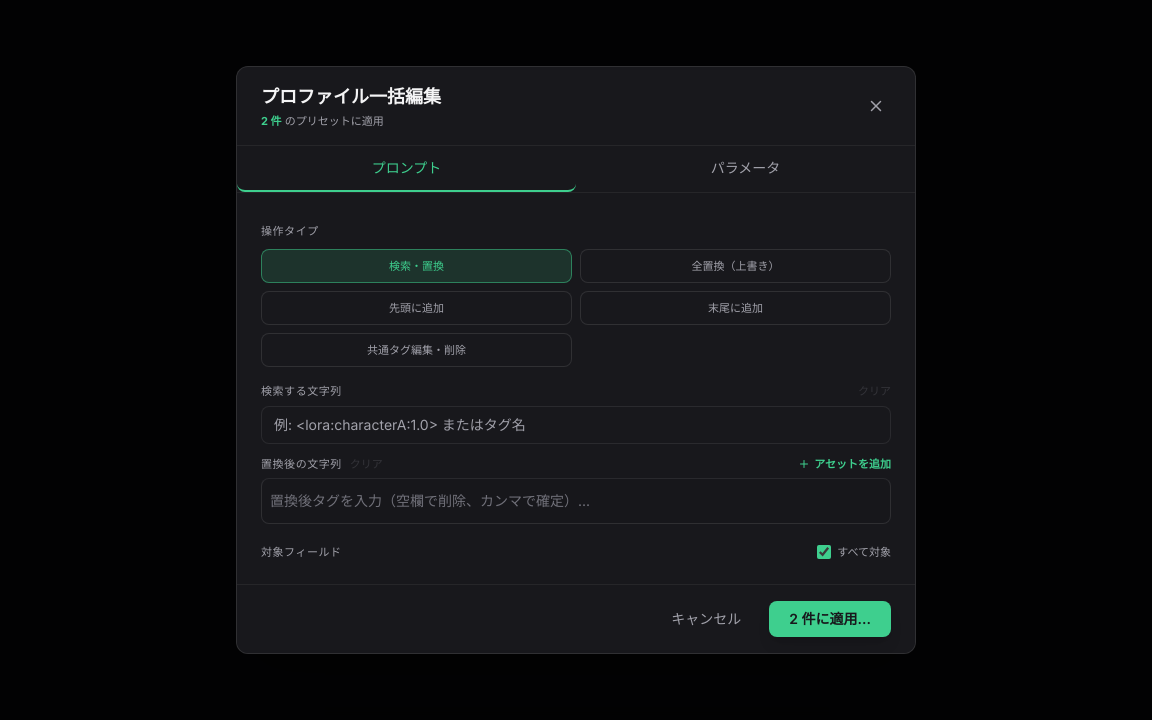
it: ProfileBulkEditModal Component › REQ-297 Enhanced Bulk Edit Features (AC-1 to AC-7, Red Team) › Red Team 1: safe handling when all subset presets are cleared
This screenshot has width=1152, height=720.
Click the button "共通タグ編集・削除".
click(416, 350)  # box x1=261 y1=333 x2=572 y2=367
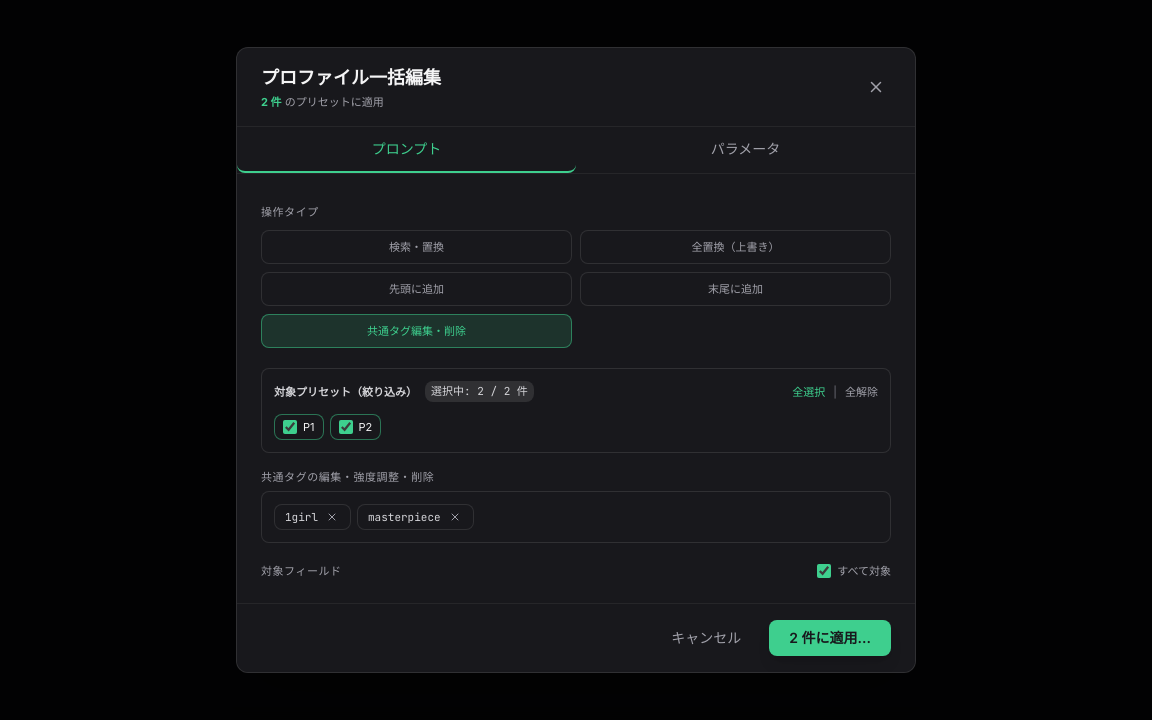
Note: Click "全解除" in subset presets
Click the button "全解除".
click(862, 392)  # box x1=845 y1=384 x2=878 y2=400
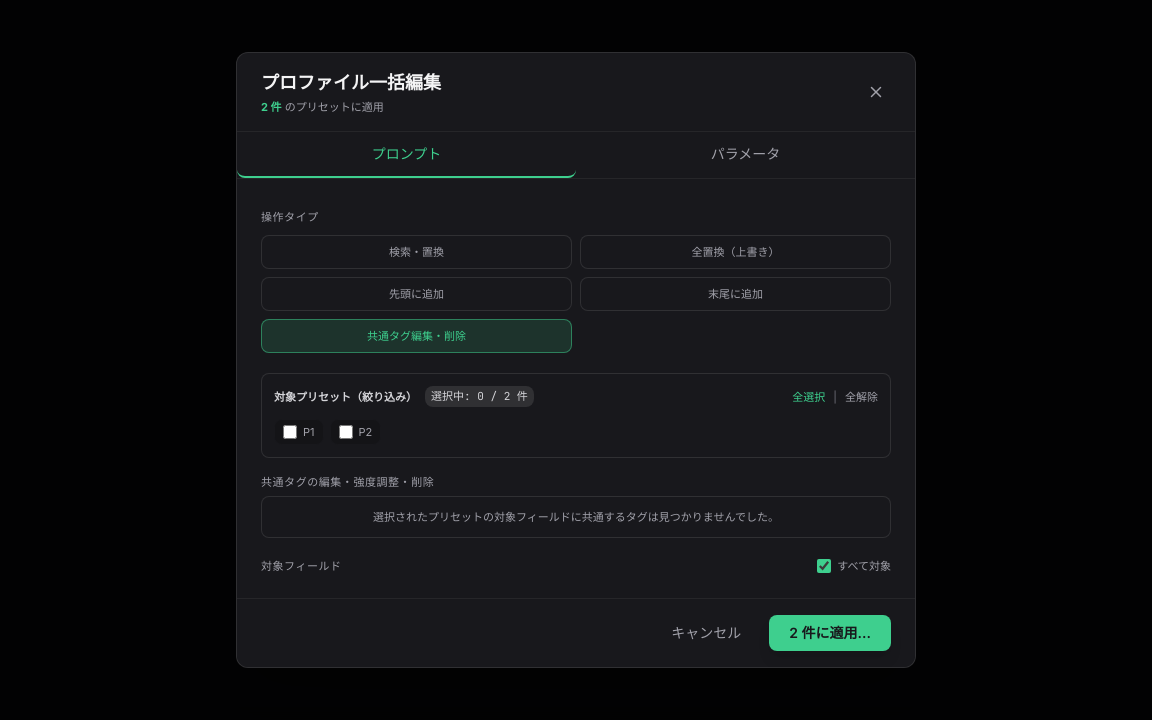
Now the text "選択されたプリセットの対象フィールドに共通するタグは見つかりませんでした。" is shown, box x1=261 y1=496 x2=891 y2=538
